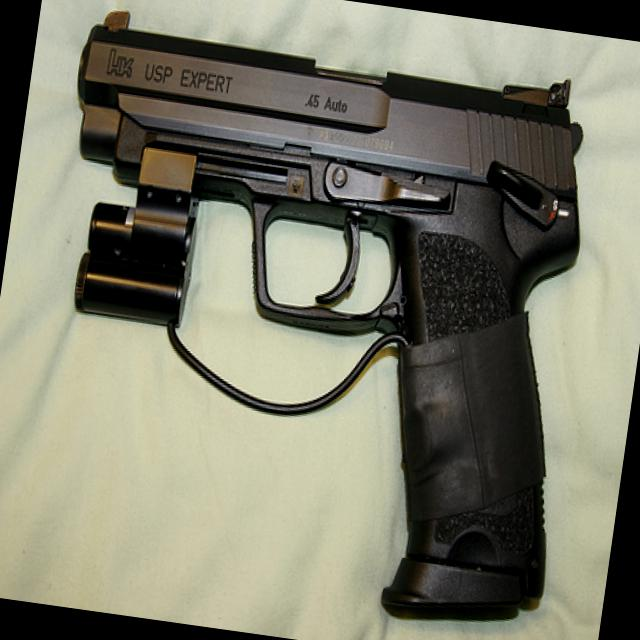handgun: (8, 1, 616, 633)
